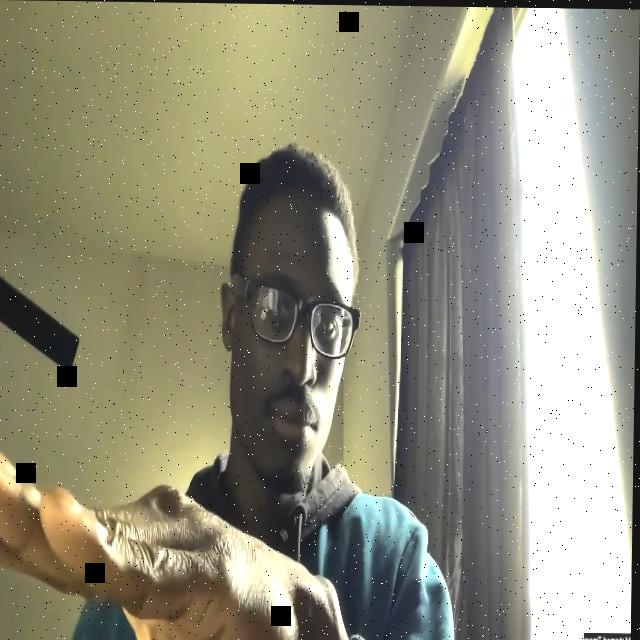Paper: (0, 446, 339, 640)
